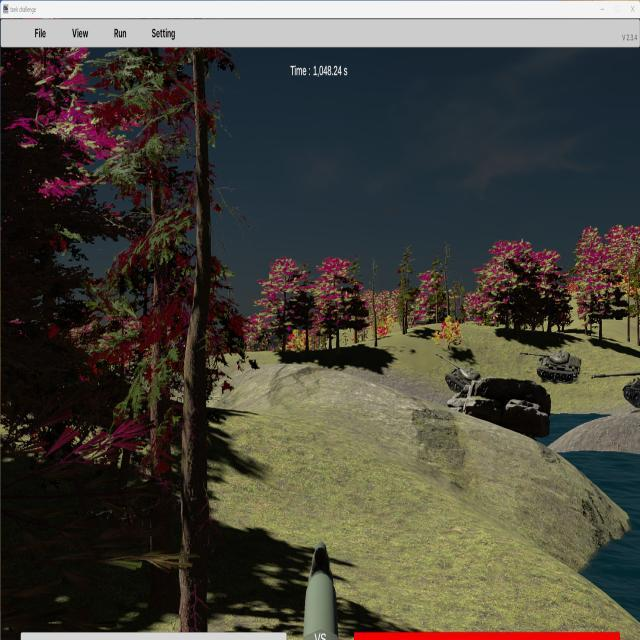Tank: (434, 352, 492, 396), (590, 363, 640, 412), (520, 349, 582, 383)
